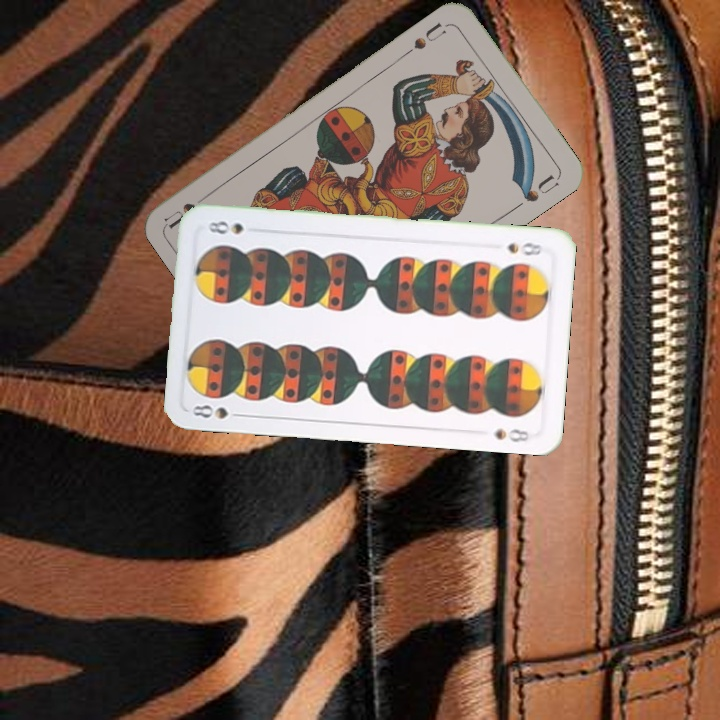S8: (189, 401, 247, 421), (504, 238, 547, 259)
SU: (409, 18, 449, 53)
